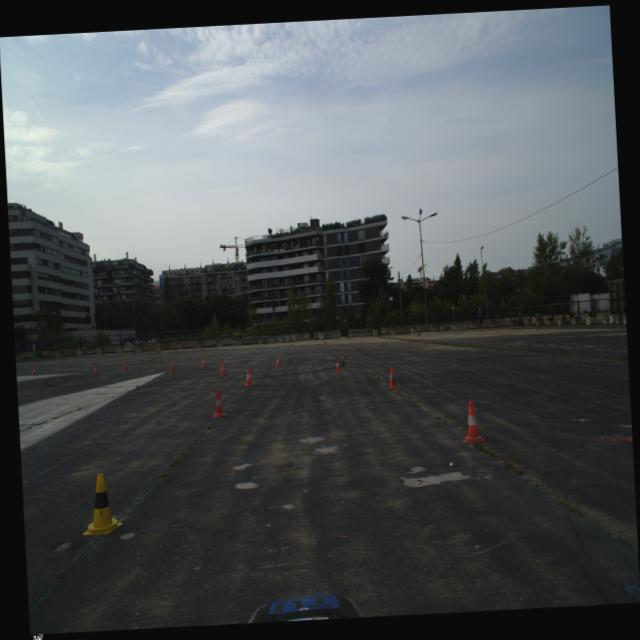orange_cone: (460, 400, 484, 444), (210, 389, 227, 418), (386, 367, 400, 390), (243, 368, 253, 386), (334, 357, 343, 373), (219, 362, 227, 376), (274, 355, 282, 367), (168, 362, 176, 374), (92, 364, 100, 376), (200, 356, 208, 367), (122, 360, 128, 370), (31, 366, 37, 376)
yellow_cone: (80, 472, 124, 536)
